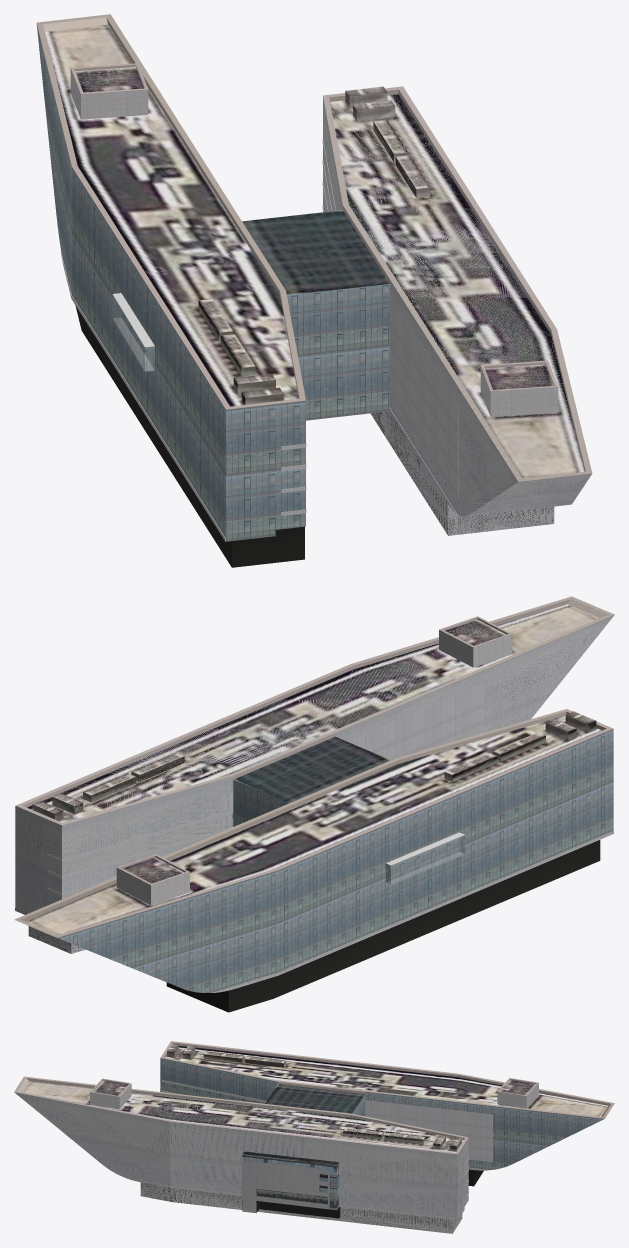
Rendered from Aeroflot_Office.fbx.
The picture shows the model from 3 angles, top to bottom: view 1: azimuth 30°, elevation 25°; view 2: azimuth 150°, elevation 25°; view 3: azimuth 270°, elevation 25°; orthographic projection. The views are drawn at different scales.
Parts seen in each view (by area): view 1: ID302, ID567, ID552, ID678, ID287, ID703, ID262, ID527, ID537, ID272, ID224_8, ID410 (+15 smaller); view 2: ID552, ID287, ID567, ID302, ID537, ID703, ID262, ID527, ID224_8, ID237, ID504, ID224_7 (+13 smaller); view 3: ID287, ID552, ID567, ID302, ID40, ID272, ID527, ID224_4, ID703, ID262, ID237, ID504 (+13 smaller).
Boxes of the visible parts, <box> form: ID302: <box>330,94,584,478</box>; ID567: <box>45,24,298,406</box>; ID552: <box>36,24,305,541</box>; ID678: <box>287,284,389,420</box>; ID287: <box>323,96,591,516</box>; ID703: <box>242,210,389,295</box>; ID262: <box>323,86,592,481</box>; ID527: <box>36,14,305,409</box>; ID537: <box>75,305,304,567</box>; ID272: <box>370,411,554,535</box>; ID224_8: <box>389,296,458,432</box>; ID410: <box>70,68,148,119</box>; ID552: <box>58,728,613,992</box>; ID287: <box>15,615,614,914</box>; ID567: <box>25,715,601,935</box>; ID302: <box>27,604,599,822</box>; ID537: <box>166,840,600,1012</box>; ID703: <box>234,736,390,803</box>; ID262: <box>16,596,614,825</box>; ID527: <box>14,709,612,937</box>; ID224_8: <box>346,683,483,753</box>; ID237: <box>22,599,607,807</box>; ID504: <box>21,711,606,921</box>; ID224_7: <box>375,707,483,760</box>; ID287: <box>14,1092,468,1219</box>; ID552: <box>160,1058,604,1169</box>; ID567: <box>165,1045,607,1116</box>; ID302: <box>22,1081,463,1152</box>; ID40: <box>242,1154,340,1218</box>; ID272: <box>140,1182,462,1233</box>; ID527: <box>160,1041,614,1118</box>; ID224_4: <box>365,1100,492,1129</box>; ID703: <box>265,1084,364,1113</box>; ID262: <box>14,1076,468,1154</box>; ID237: <box>17,1078,464,1139</box>; ID504: <box>164,1042,610,1117</box>.
Size of the model in its own units: 3607 by 1374 by 8076.
Materials: 36 (36 with a texture image).
